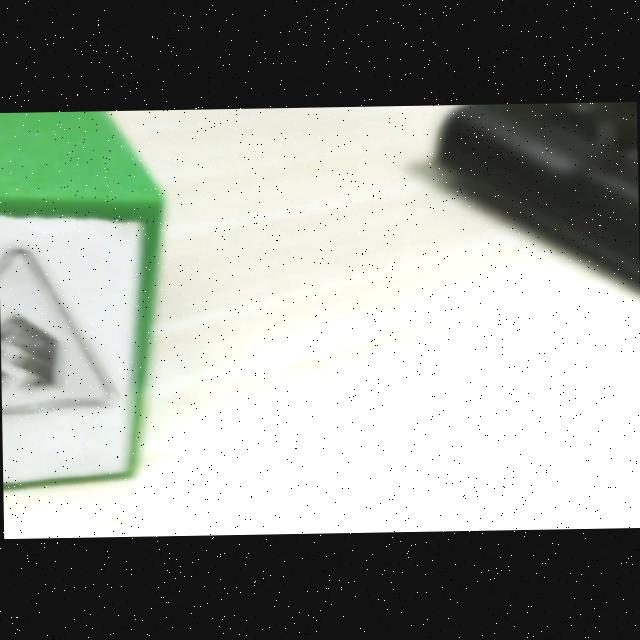Earthquake: (0, 246, 119, 416)
